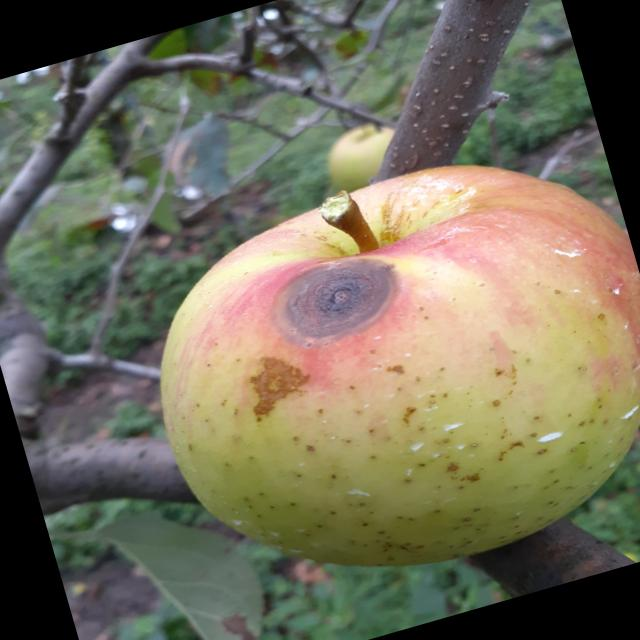rotten: (86, 104, 640, 640)
